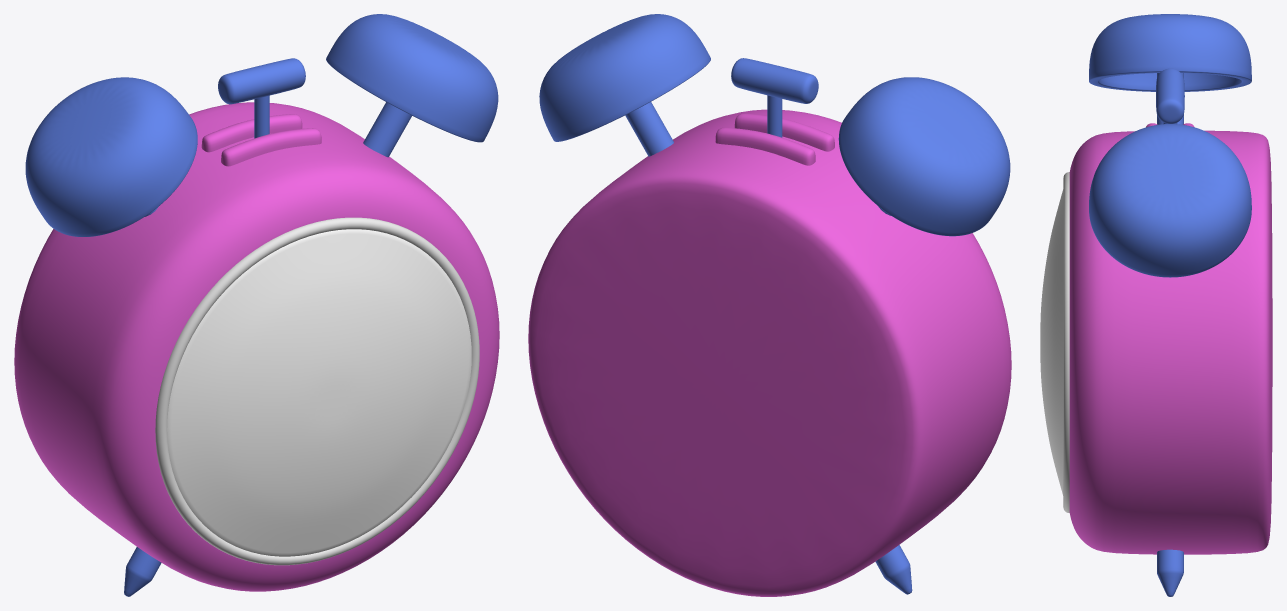
Rendered from clock.fbx.
3 views of the same model, side by side, from view 1: azimuth 30°, elevation 25°; view 2: azimuth 150°, elevation 25°; view 3: azimuth 270°, elevation 25° (orthographic). The views are drawn at different scales.
Visible parts, largest first — view 1: Circle; view 2: Circle; view 3: Circle.
Part boxes in pixels (<box>): Circle: <box>14,14,499,596</box>; Circle: <box>528,14,1011,596</box>; Circle: <box>1040,14,1272,596</box>.
Size of the model in its own units: 220 by 239 by 108.
